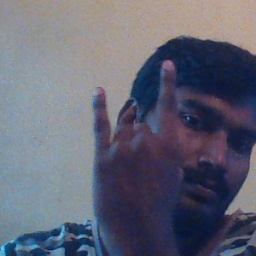V: (88, 57, 191, 244)
